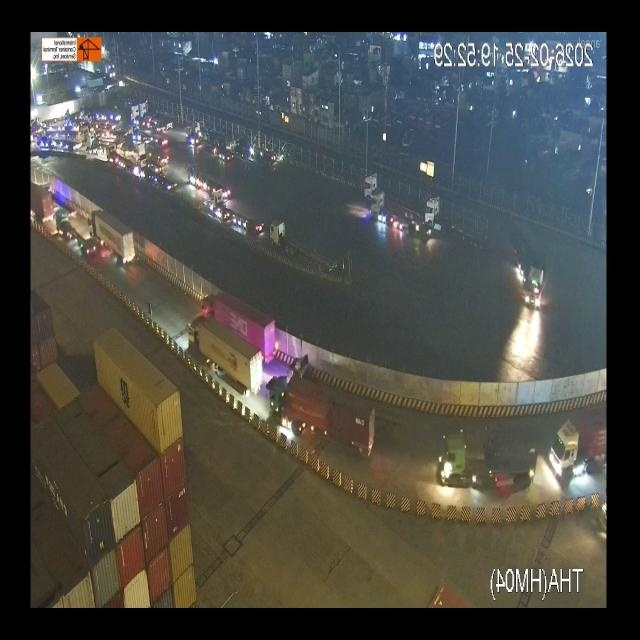truck: (434, 439, 546, 500), (264, 386, 384, 436), (182, 321, 272, 383), (549, 408, 613, 487), (200, 296, 284, 345), (267, 216, 335, 271), (87, 205, 141, 256), (54, 203, 97, 260), (427, 198, 471, 238), (370, 203, 416, 240), (30, 171, 53, 223), (363, 170, 385, 200)
